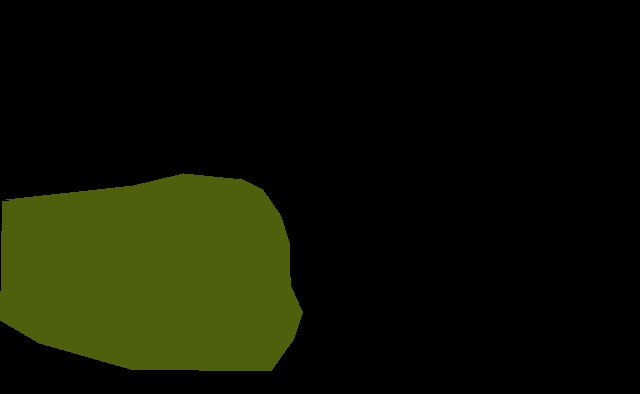Train: (0, 173, 302, 371)
